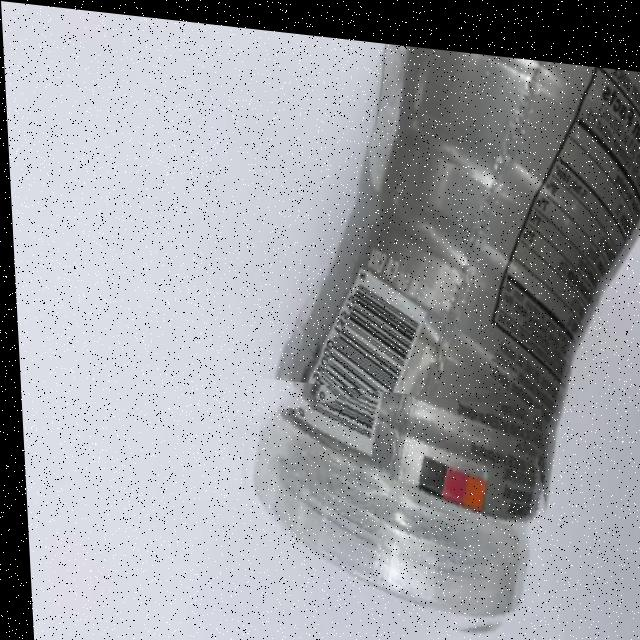litter: (223, 368, 548, 640)
